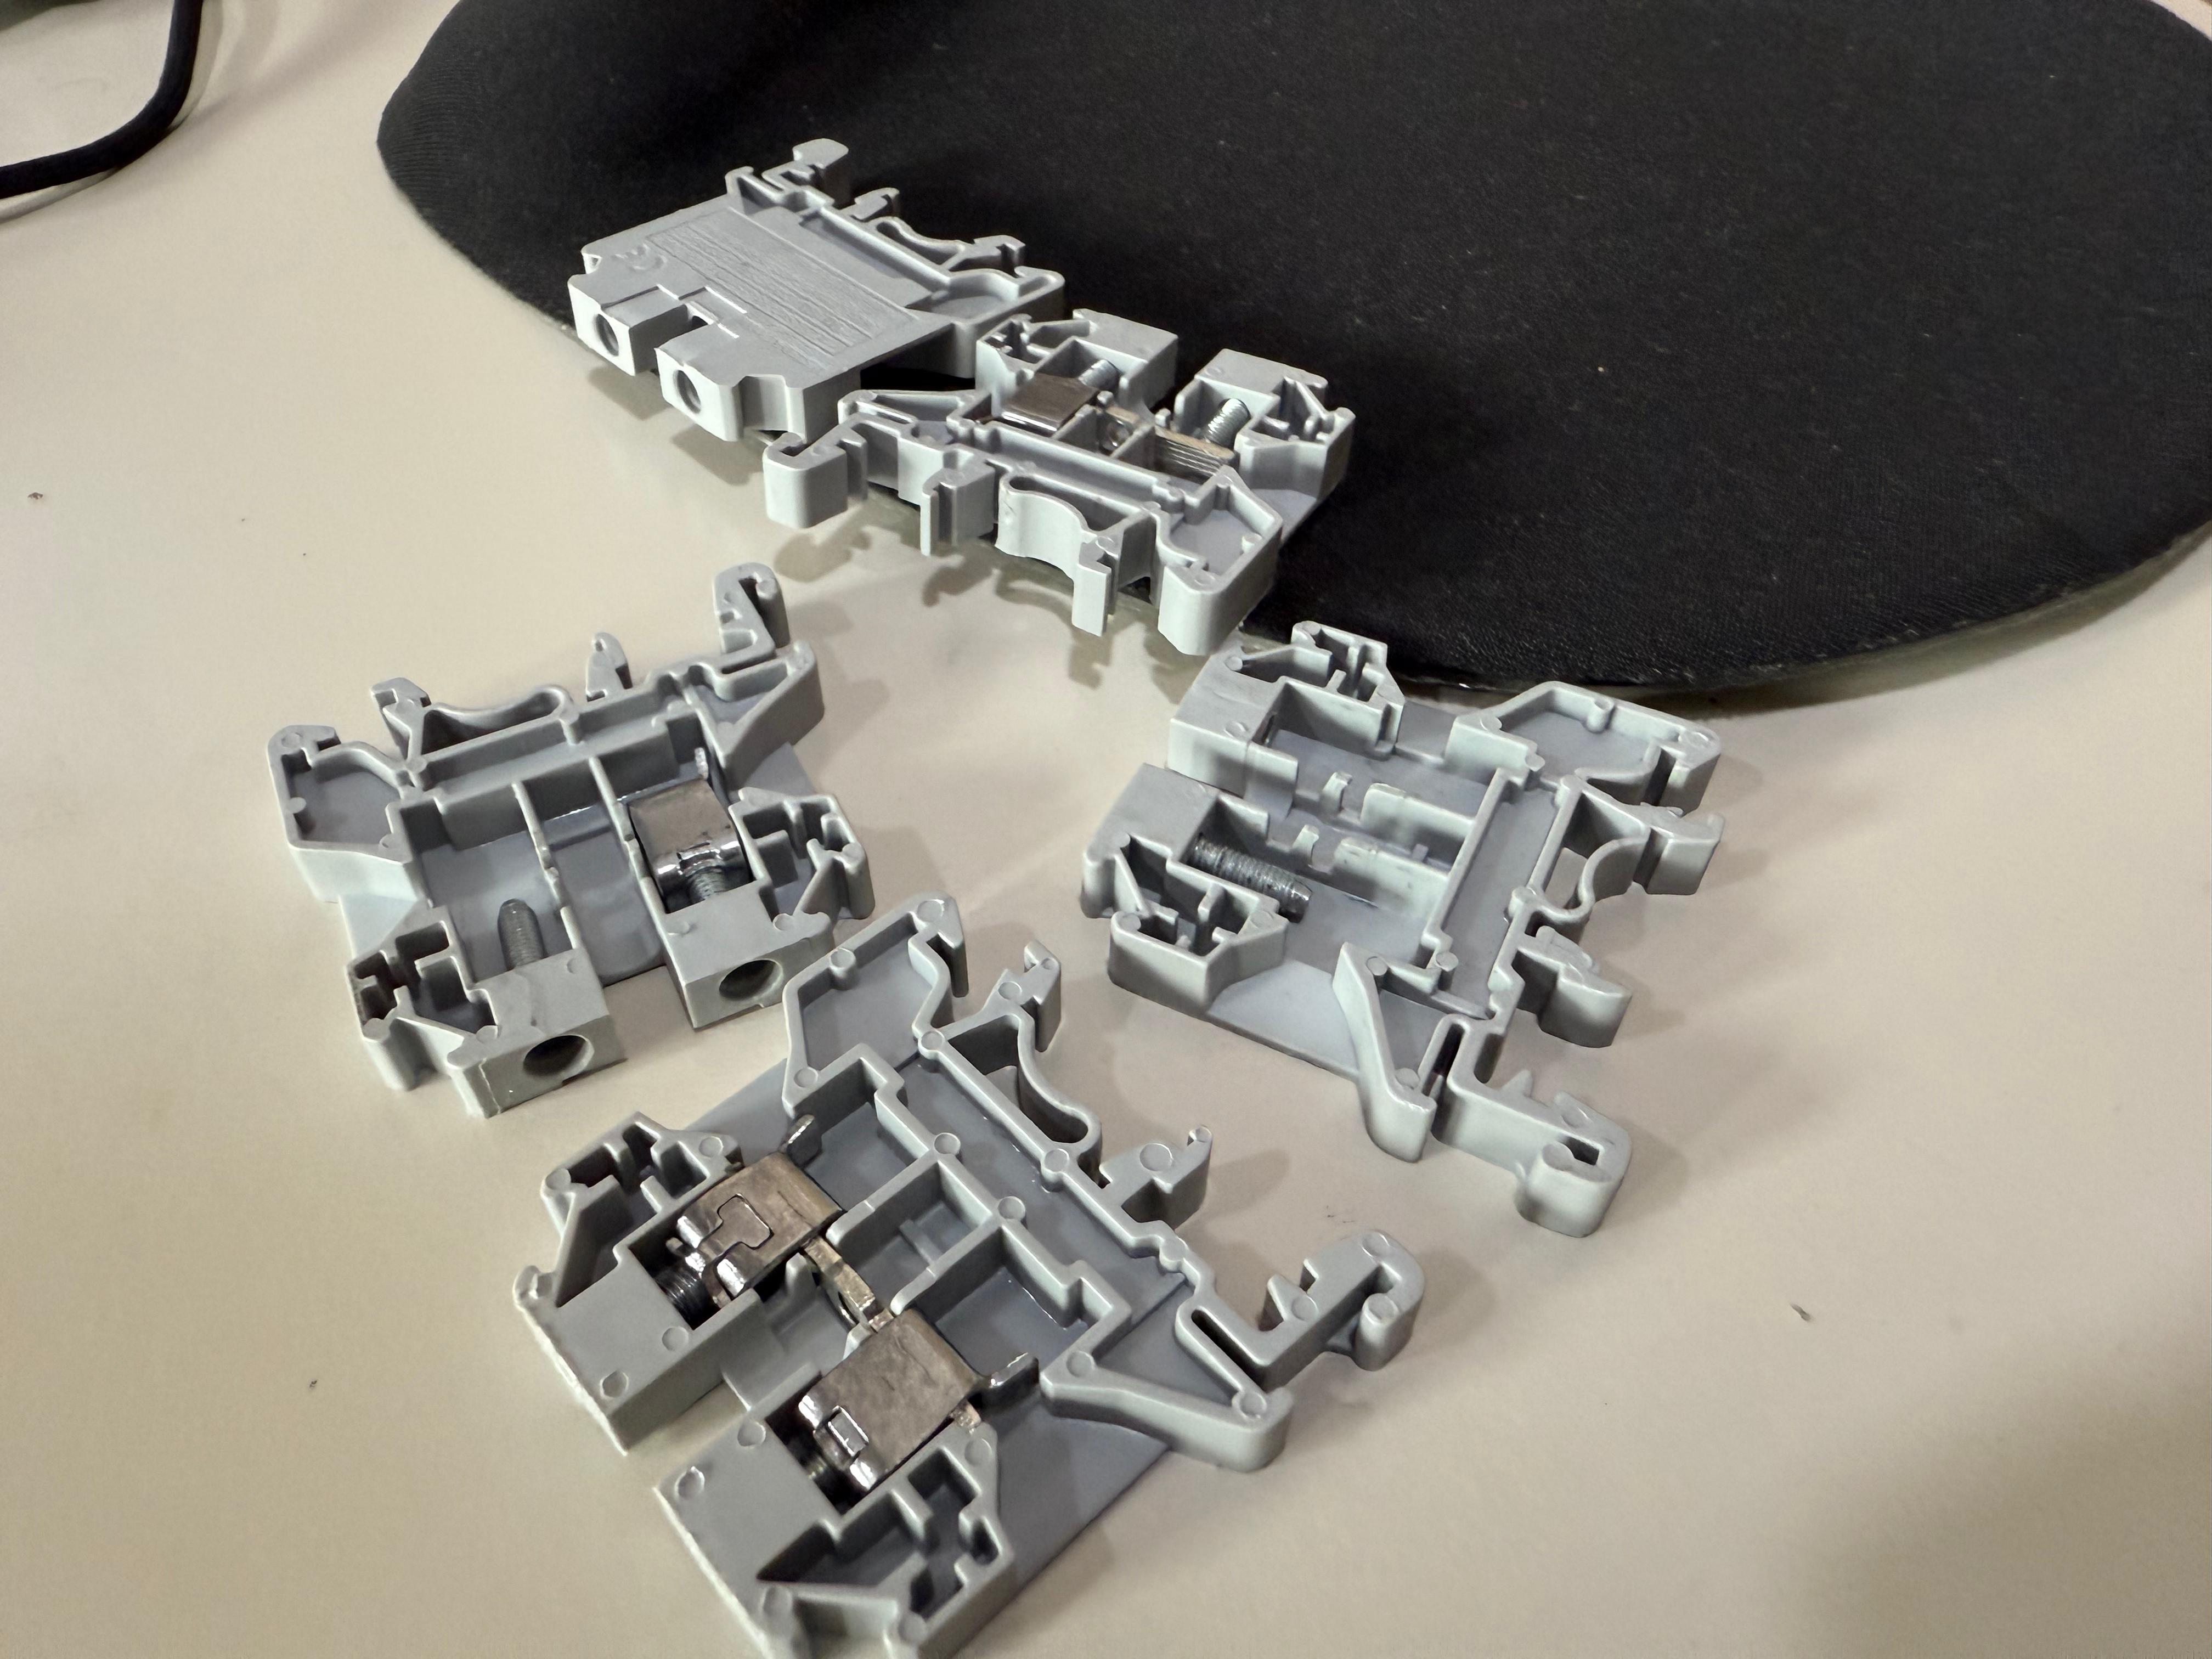Inverted: (554, 120, 1078, 443)
Pass: (500, 899, 1442, 1659), (777, 310, 1352, 615)
Reject: (1092, 612, 1730, 1229), (272, 545, 867, 1082)
